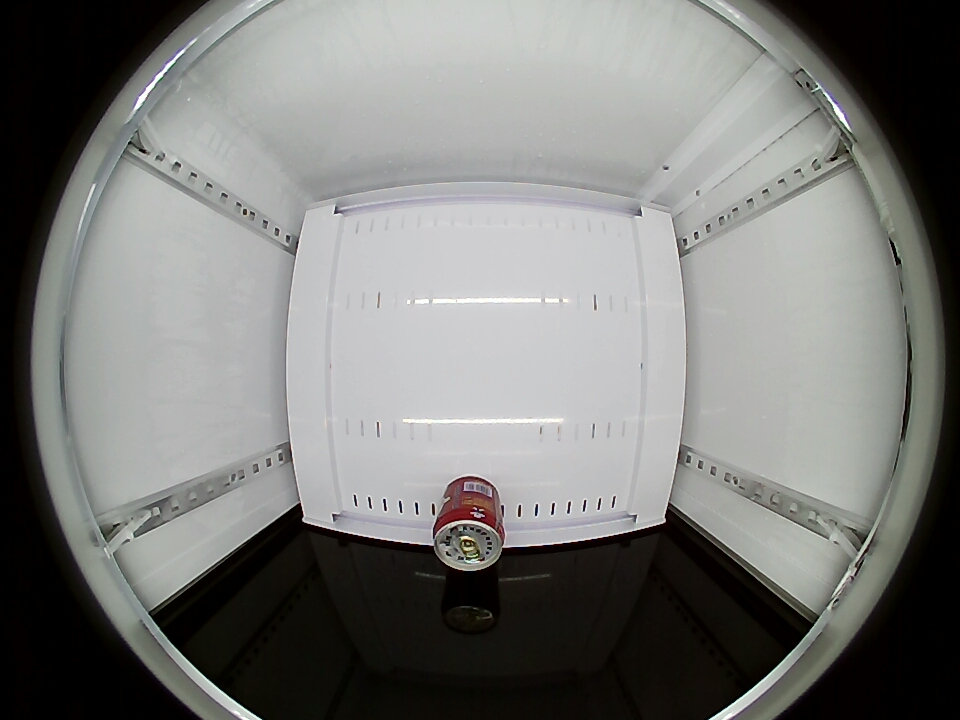wangzainiunai: (432, 490, 506, 571)
